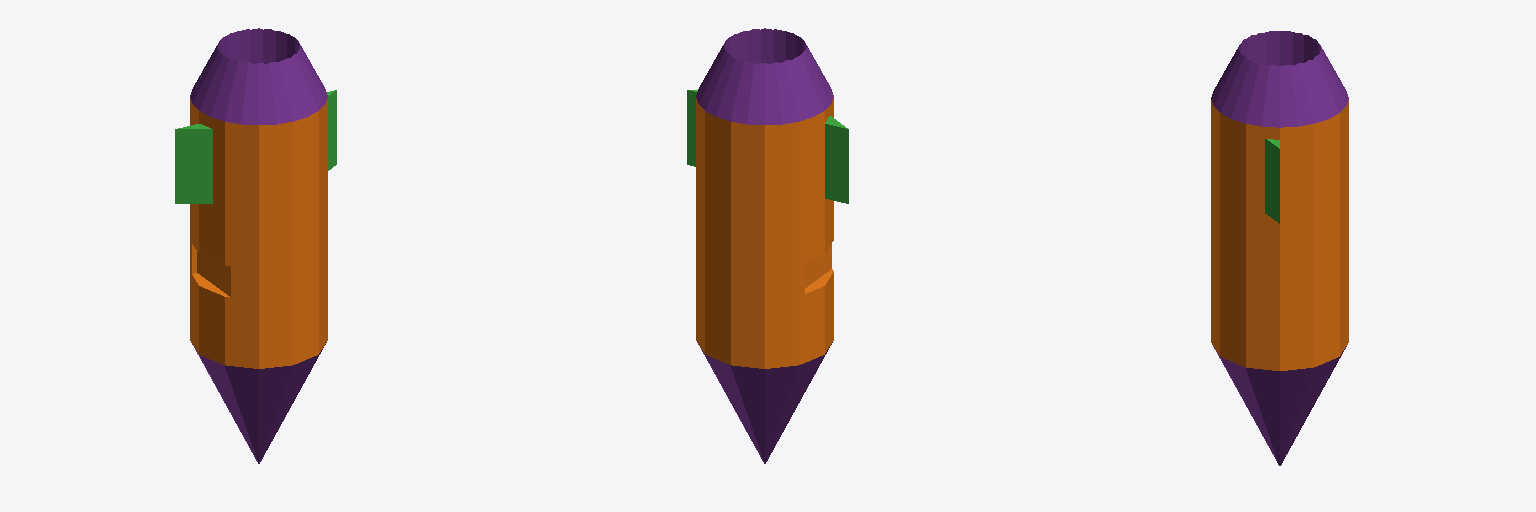
The model's file is Shuttle.obj.
3 renders of one model, left to right at view 1: azimuth 30°, elevation 25°; view 2: azimuth 150°, elevation 25°; view 3: azimuth 270°, elevation 25°, orthographic.
Visible parts, largest first — view 1: obj_0; view 2: obj_0; view 3: obj_0.
Part boxes in pixels (x1,y1,x2,y2): obj_0: (175,28,336,463); obj_0: (687,28,848,463); obj_0: (1211,31,1348,465).
Bounding box in the file's own units: 27 × 67.14 × 20.